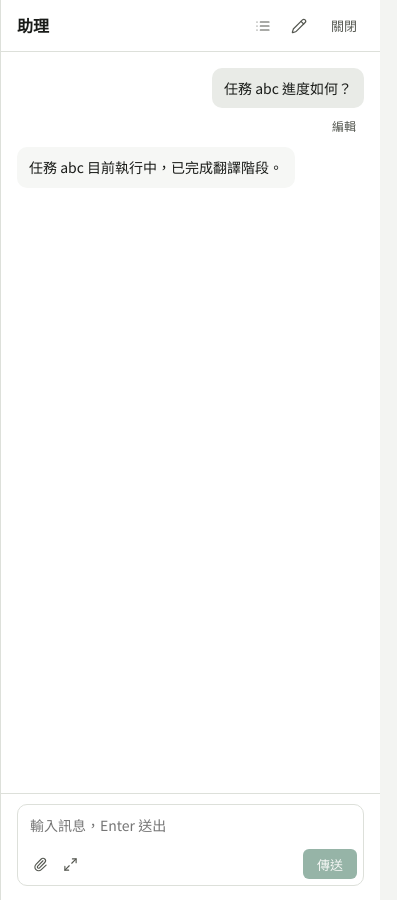
Test case: new chat opens a fresh session and keeps the old one for history
Expected: the text "任務 abc 進度如何？" is shown, [212,68,364,108]
Click the button named "新對話".
click(299, 26)  # box [284,10,314,40]
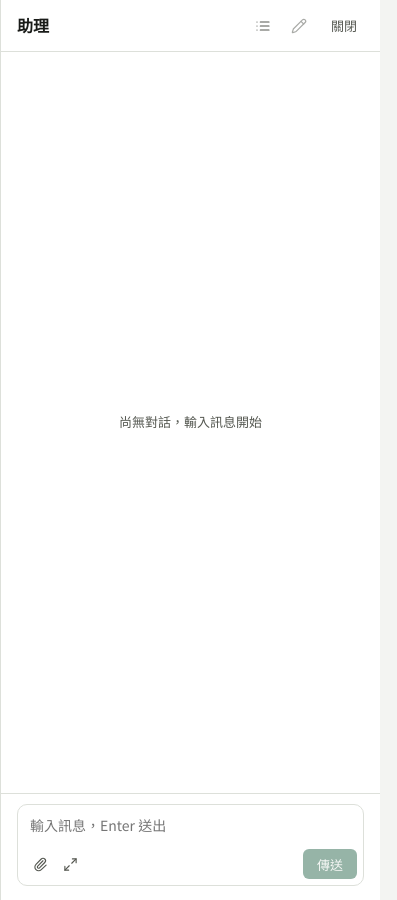
Result: the text "尚無對話，輸入訊息開始" is shown at [119,412,262,431]
Result: the text "任務 abc 進度如何？" is gone
